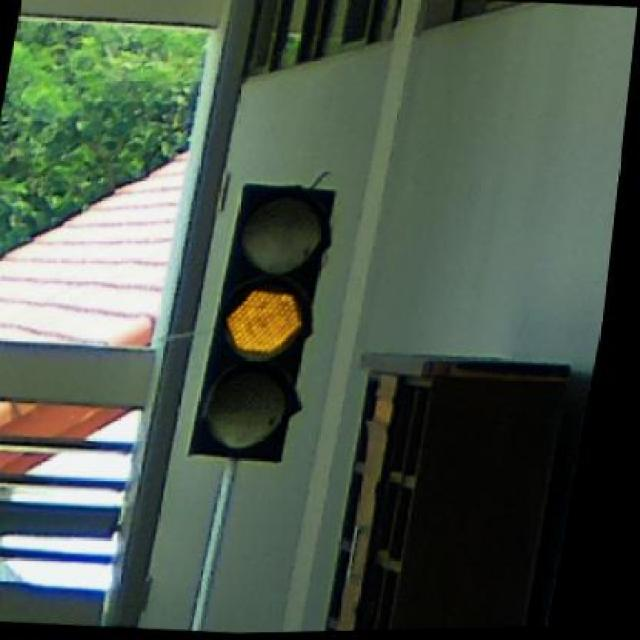yellow_light: (196, 183, 350, 465)
